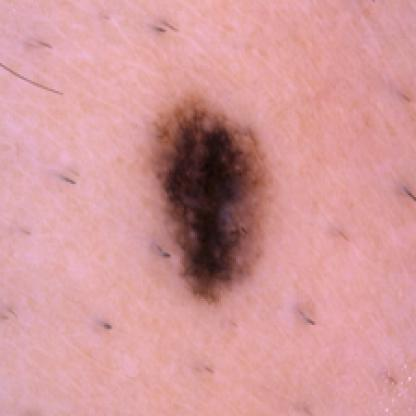benign: (152, 89, 271, 305)
